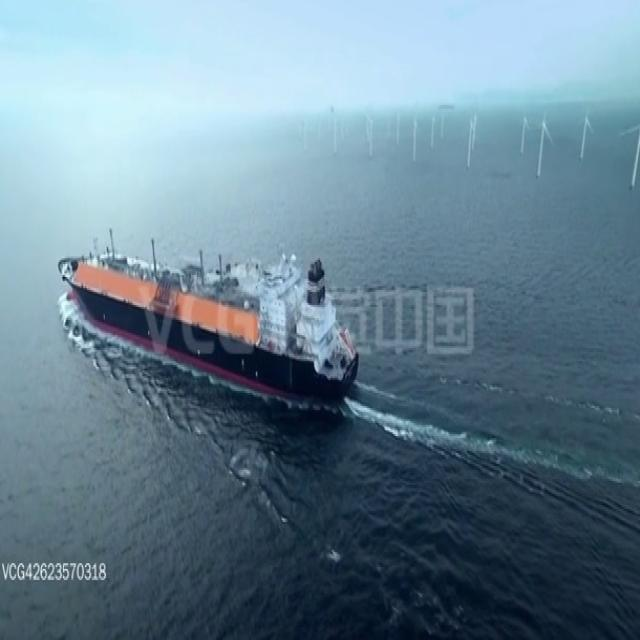cargoship: (61, 225, 358, 405)
